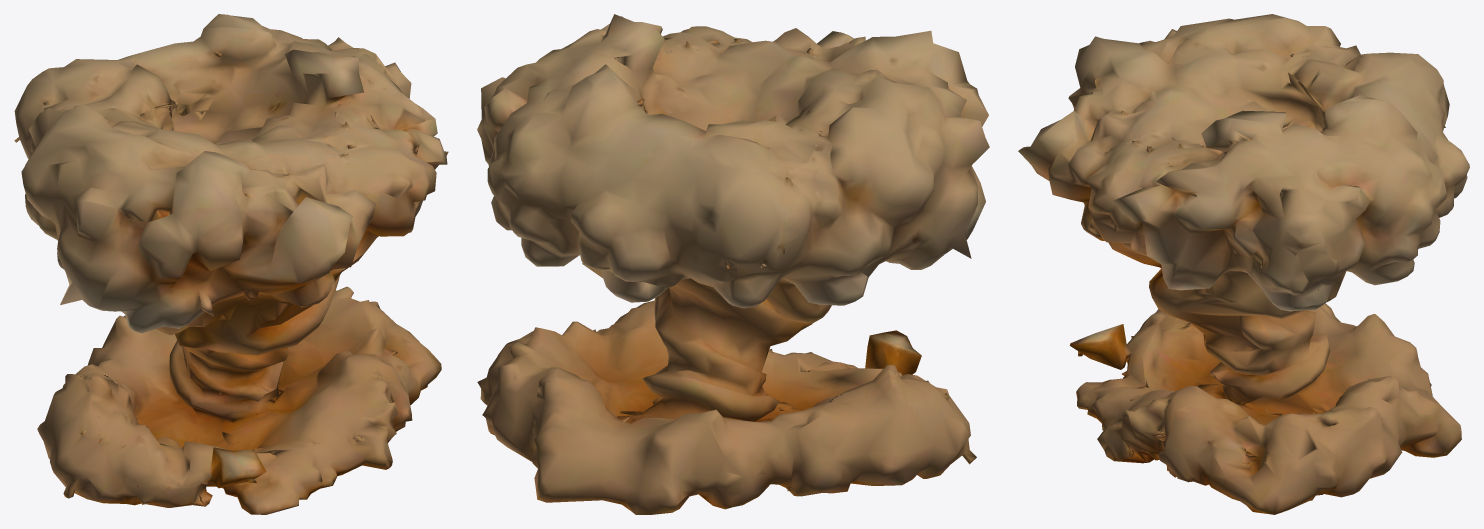
The model's file is sand_c.glb.
3 renders of one model, left to right at view 1: azimuth 30°, elevation 25°; view 2: azimuth 150°, elevation 25°; view 3: azimuth 270°, elevation 25°, orthographic. The views are drawn at different scales.
Parts seen in each view (by area): view 1: tripo_node_627f48b9-7dd4-41a7-973a-0f3544114ef5; view 2: tripo_node_627f48b9-7dd4-41a7-973a-0f3544114ef5; view 3: tripo_node_627f48b9-7dd4-41a7-973a-0f3544114ef5.
Boxes of the visible parts, <box> form: tripo_node_627f48b9-7dd4-41a7-973a-0f3544114ef5: <box>14,14,448,514</box>; tripo_node_627f48b9-7dd4-41a7-973a-0f3544114ef5: <box>477,14,989,514</box>; tripo_node_627f48b9-7dd4-41a7-973a-0f3544114ef5: <box>1018,14,1469,514</box>.
Size of the model in its own units: 0.904 by 0.7555 by 0.8876.
Materials: 1 (1 with a texture image).
